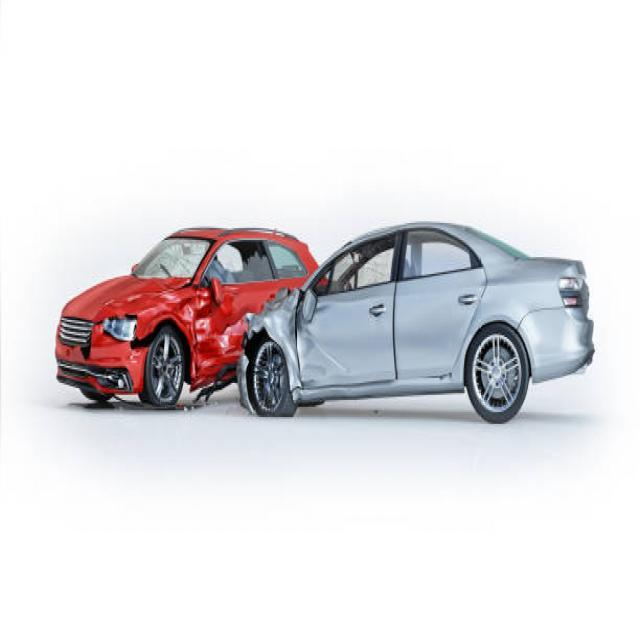accident: (86, 130, 604, 442)
